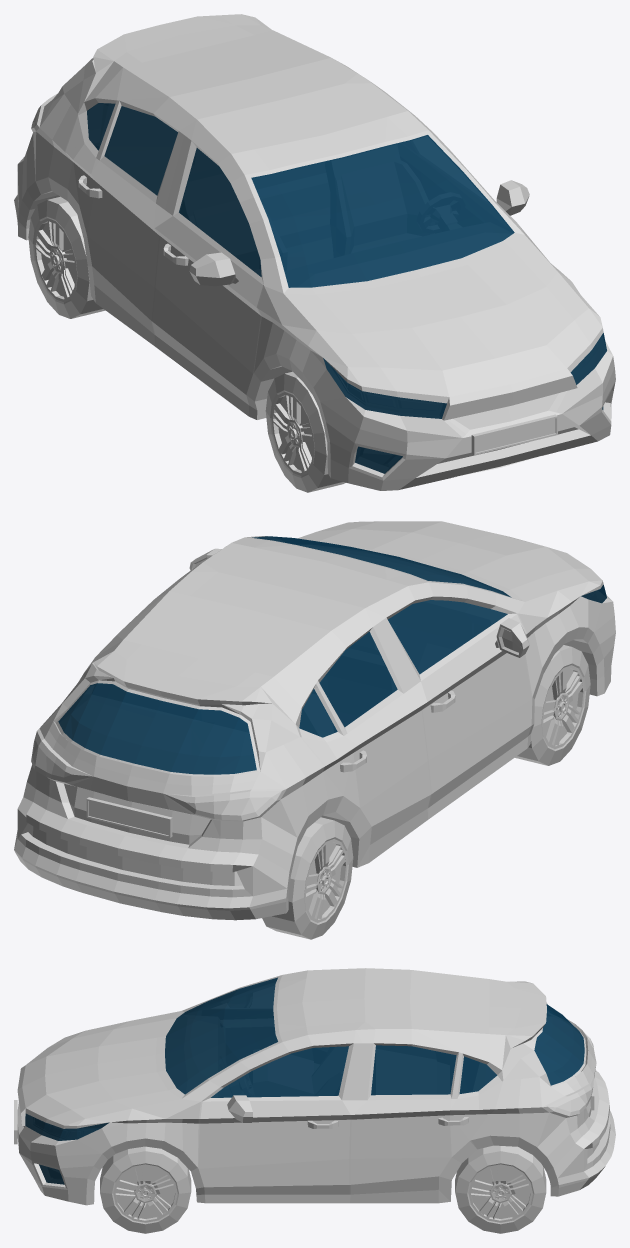
File: hatchback_seperate_wheels.fbx
The picture shows the model from 3 angles, top to bottom: view 1: azimuth 30°, elevation 25°; view 2: azimuth 150°, elevation 25°; view 3: azimuth 270°, elevation 25°; orthographic projection. The views are drawn at different scales.
Visible parts, largest first — view 1: hatchback, hatchback_glass, hatchback_wheel.001, hatchback_wheel.002; view 2: hatchback, hatchback_glass, hatchback_wheel.001, hatchback_wheel.002; view 3: hatchback, hatchback_glass, hatchback_wheel.003, hatchback_wheel.
Boxes of the visible parts, x1,y1,x2,y2 form: hatchback: (14, 14, 615, 490); hatchback_glass: (87, 103, 606, 473); hatchback_wheel.001: (28, 196, 105, 318); hatchback_wheel.002: (265, 371, 345, 492); hatchback: (14, 521, 615, 920); hatchback_glass: (58, 536, 606, 774); hatchback_wheel.001: (262, 817, 353, 939); hatchback_wheel.002: (515, 645, 590, 765); hatchback: (14, 968, 615, 1205); hatchback_glass: (25, 977, 584, 1184); hatchback_wheel.003: (455, 1145, 546, 1233); hatchback_wheel: (100, 1146, 191, 1233).
Size of the model in its own units: 298 by 213 by 621.
